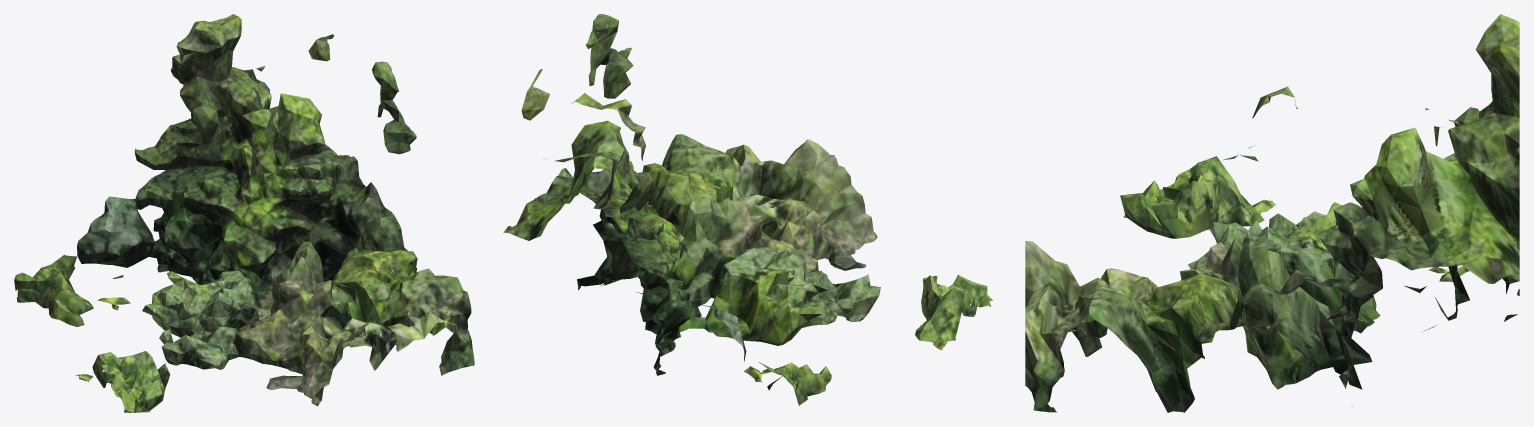
3 views of the same model, side by side, from view 1: azimuth 30°, elevation 25°; view 2: azimuth 150°, elevation 25°; view 3: azimuth 270°, elevation 25° (orthographic). The views are drawn at different scales.
Bounding box in the file's own units: 26.11 × 19.14 × 26.11.
4 materials, 4 textured.
